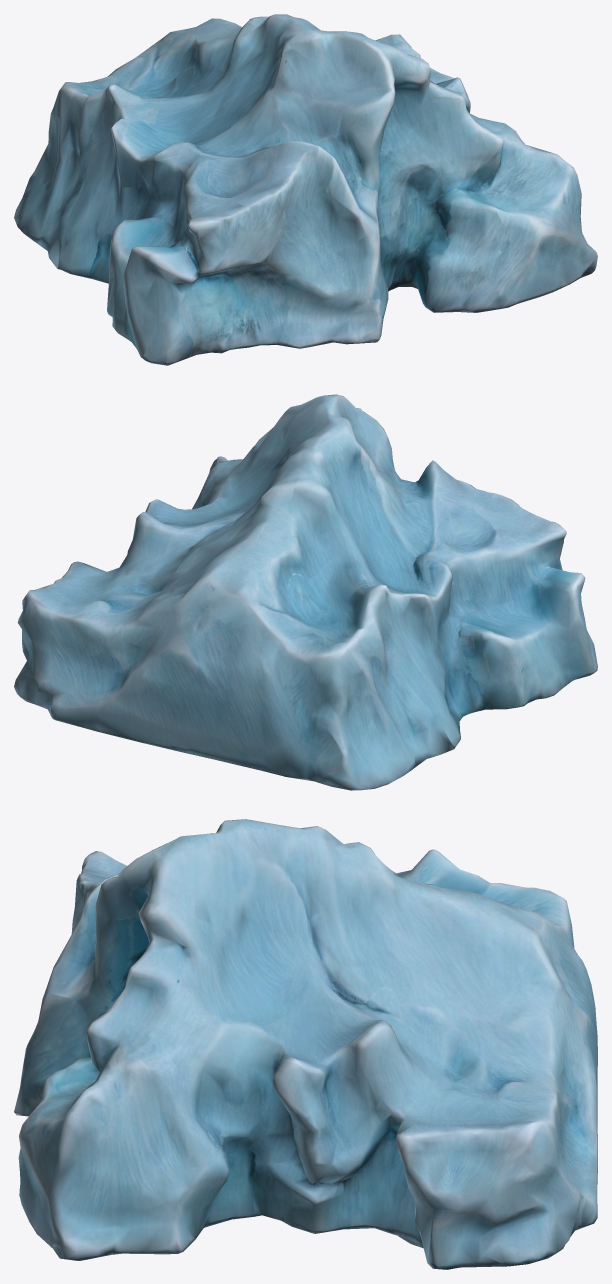
The model's file is ice_block.glb.
The picture shows the model from 3 angles, top to bottom: view 1: azimuth 30°, elevation 25°; view 2: azimuth 150°, elevation 25°; view 3: azimuth 270°, elevation 25°; orthographic projection. The views are drawn at different scales.
Visible parts, largest first — view 1: ice_block; view 2: ice_block; view 3: ice_block.
Boxes of the visible parts, x1,y1,x2,y2 form: ice_block: [14, 14, 597, 365]; ice_block: [14, 394, 597, 790]; ice_block: [14, 819, 597, 1269].
Size of the model in its own units: 1.99 by 1.06 by 1.79.
1 material, 1 textured.
